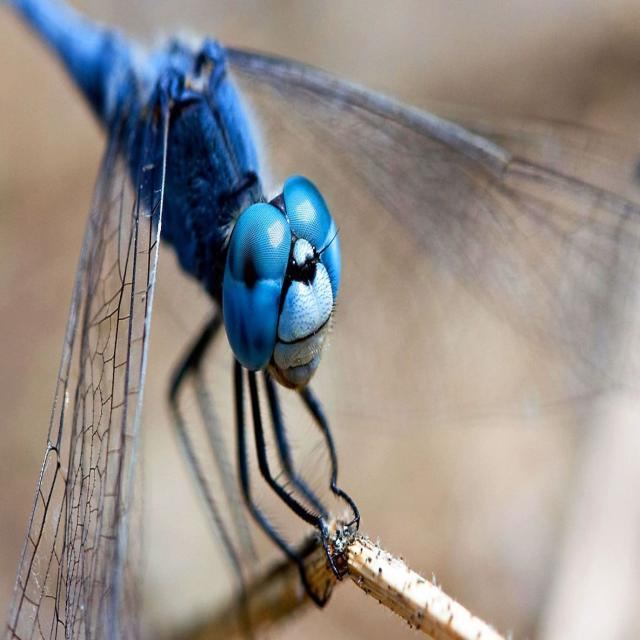dragonfly: (5, 0, 640, 639)
